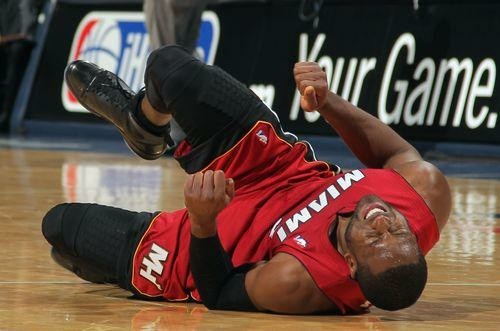falling: (31, 24, 466, 331)
